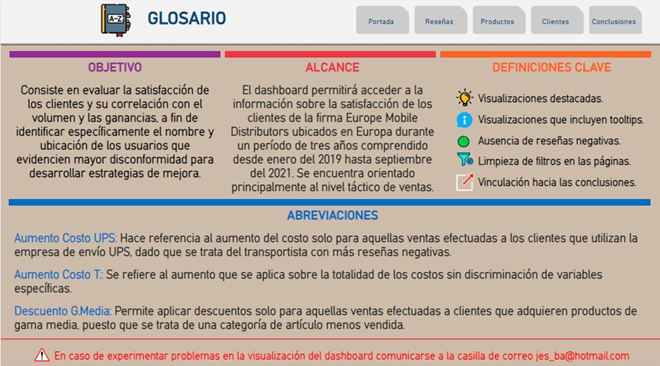

What the dashboard file says about the page in this screenshot:
{"tool":"powerbi","page":{"name":"Glosario","canvas":[1280,720],"ordinal":5},"visuals":[{"type":"pageNavigator","box":[690.2,17,557,55.3],"z":0},{"type":"textbox","box":[260.8,17,201.3,56.7],"z":1000},{"type":"image","box":[877.3,172.9,48.2,43.9],"z":2000},{"type":"image","box":[874.5,216.9,51,43.9],"z":3000},{"type":"image","box":[877.3,335.9,48.2,48.2],"z":4000},{"type":"image","box":[873.1,260.8,52.4,43.9],"z":5000},{"type":"image","box":[877.3,294.8,48.2,41.1],"z":6000},{"type":"shape","box":[17,104.9,409.6,12.8],"z":7000},{"type":"shape","box":[853.2,104.9,409.6,12.8],"z":8000},{"type":"shape","box":[435.1,104.9,409.6,12.8],"z":9000},{"type":"textbox","box":[17,117.6,409.6,275],"z":10000},{"type":"textbox","box":[99.2,678.9,1135.3,34],"z":11000},{"type":"textbox","box":[435.1,117.6,418.1,275],"z":12000},{"type":"textbox","box":[877.3,117.6,385.5,275],"z":13000},{"type":"image","box":[178.6,8.5,89.3,73.7],"z":14000},{"type":"textbox","box":[21.3,405.4,1245.8,250.9],"z":15000},{"type":"image","box":[49.6,671.8,60.9,48.2],"z":16000},{"type":"shape","box":[15.6,392.6,1245.8,12.8],"z":17000},{"type":"shape","box":[0,609.4,1279.8,110.6],"z":18000}]}

Visuals, with their boxes in screenshot pixels (x1, y1, x2, y2), scaled from the page's 1280x720 canvas onto the 660x366 screenshot:
pageNavigator: box=[356, 9, 643, 37]
textbox: box=[134, 9, 238, 37]
image: box=[452, 88, 477, 110]
image: box=[451, 110, 477, 133]
image: box=[452, 171, 477, 195]
image: box=[450, 133, 477, 155]
image: box=[452, 150, 477, 171]
shape: box=[9, 53, 220, 60]
shape: box=[440, 53, 651, 60]
shape: box=[224, 53, 436, 60]
textbox: box=[9, 60, 220, 200]
textbox: box=[51, 345, 637, 362]
textbox: box=[224, 60, 440, 200]
textbox: box=[452, 60, 651, 200]
image: box=[92, 4, 138, 42]
textbox: box=[11, 206, 653, 334]
image: box=[26, 341, 57, 365]
shape: box=[8, 200, 650, 206]
shape: box=[0, 310, 659, 365]
